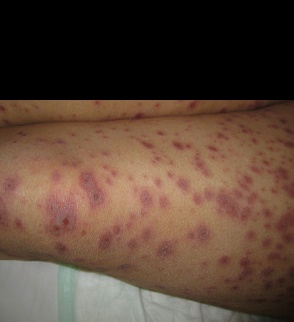SJS-TEN: (0, 98, 291, 311)
